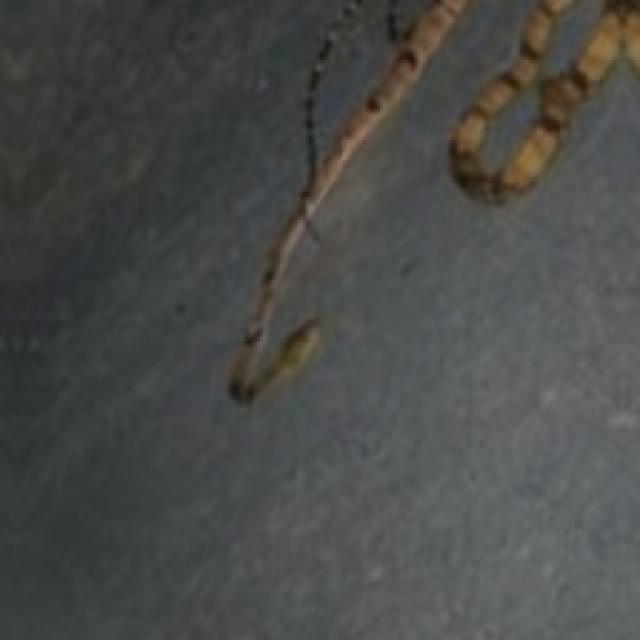dog-toothed cat snake: (229, 0, 466, 400), (449, 0, 637, 200)
